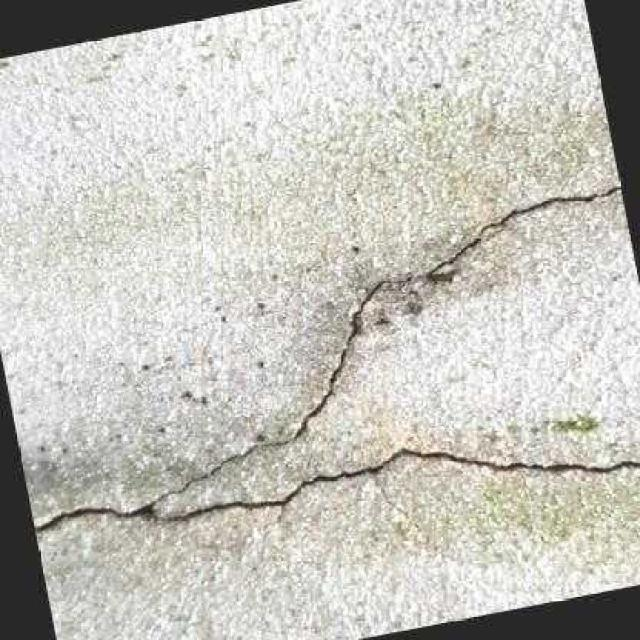D00: (34, 276, 640, 529), (475, 184, 620, 234), (425, 237, 478, 273)
